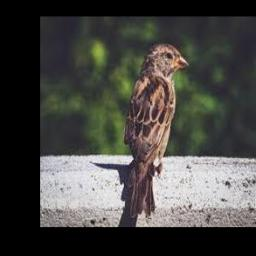Sparrow: (123, 42, 188, 218)
